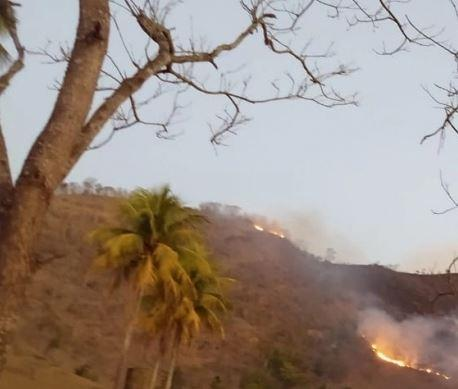fire: (371, 334, 426, 372)
